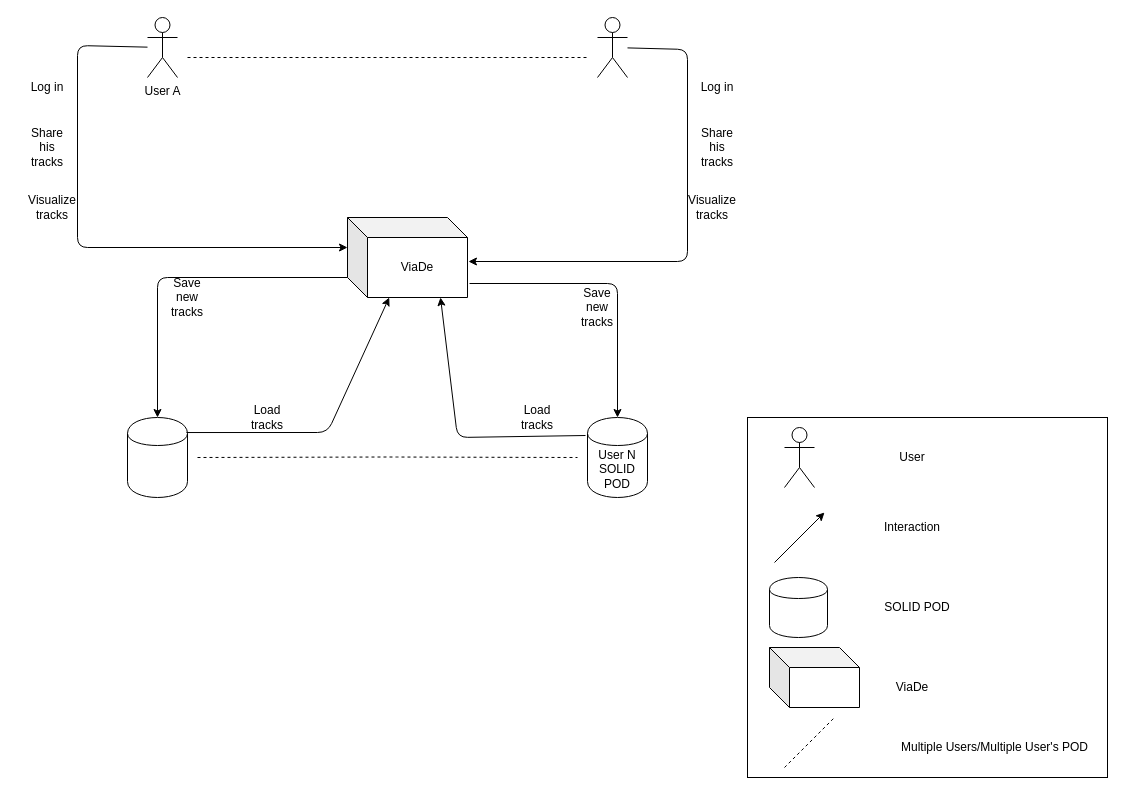
This 1125x795 diagram has some shape labels left out. The centre of each missing label's shape, as x and y in pixels:
User A SOLID POD: point 157,457
User N: point 612,47
